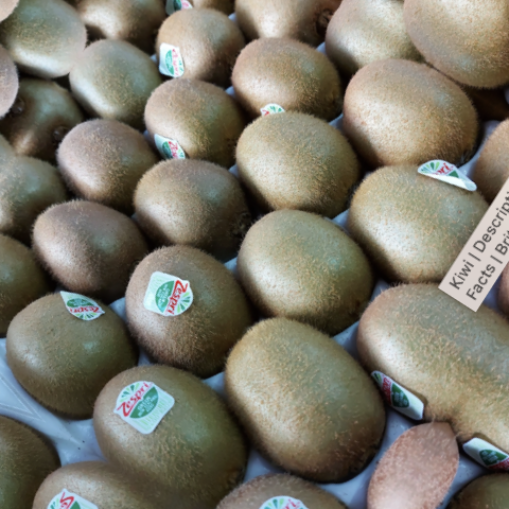kiwi: (169, 275, 424, 509), (311, 245, 509, 448), (311, 117, 509, 320), (308, 28, 509, 221), (64, 326, 275, 509), (203, 76, 388, 252), (0, 165, 178, 334), (101, 223, 274, 387), (204, 11, 364, 163), (120, 48, 270, 196), (109, 123, 257, 266)
